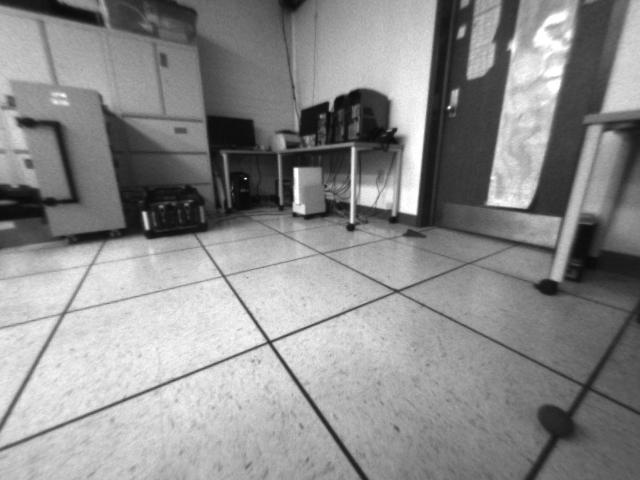dogtoy: (532, 393, 585, 446)
